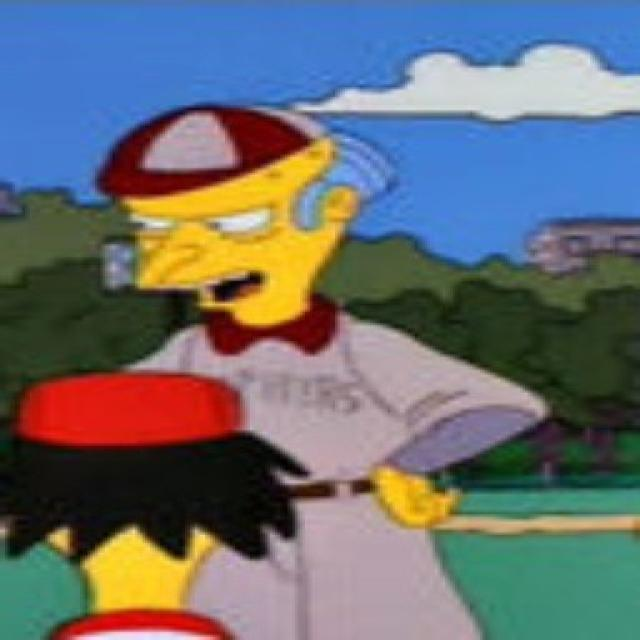Charles Montgomery Burns: (119, 131, 401, 334)
